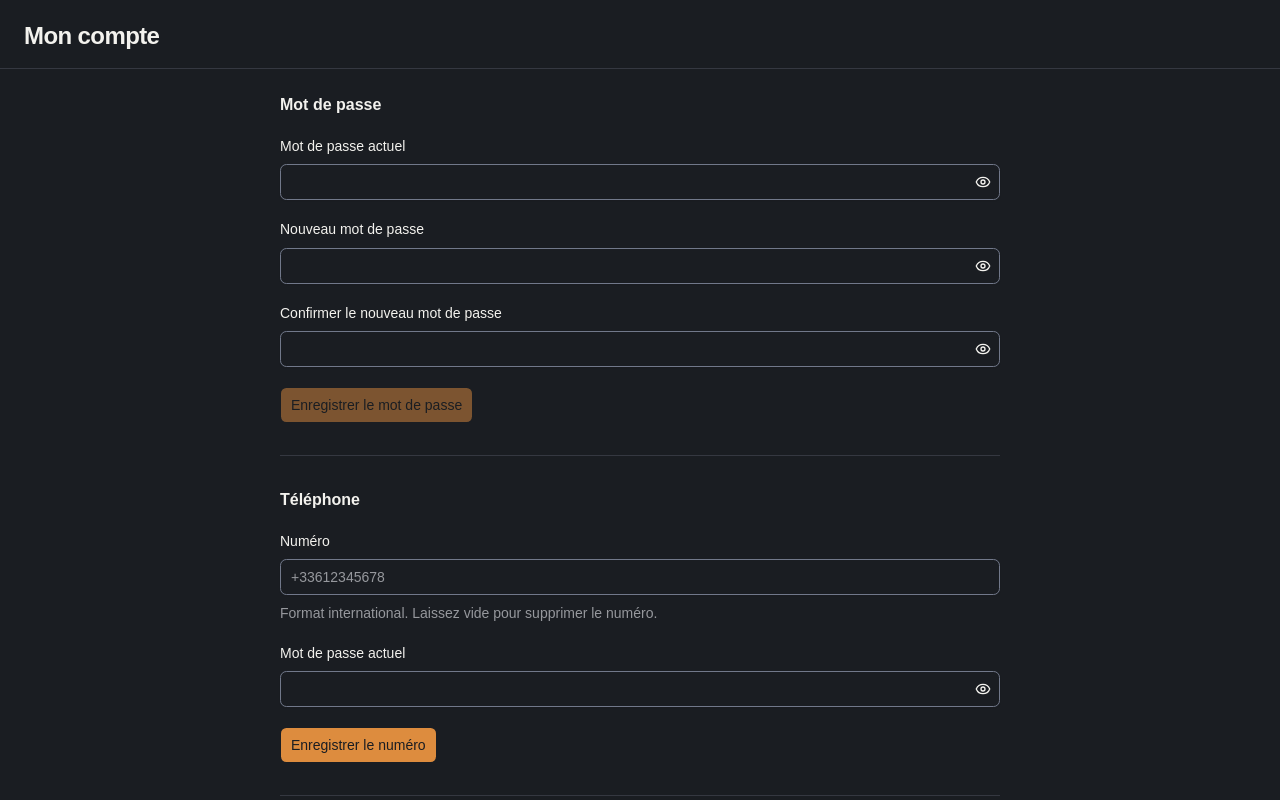
Test: Account (KAN-152, FR9, FR10) › rejects an obviously malformed phone number inline, client-side, before submission (FR13)
Expected: the element with test id "account-phone-section" is shown, [280, 488, 1000, 763]
Step 1. Type "not-a-phone" into the field with test id "account-phone-number" → [640, 577], box [280, 559, 1000, 595]
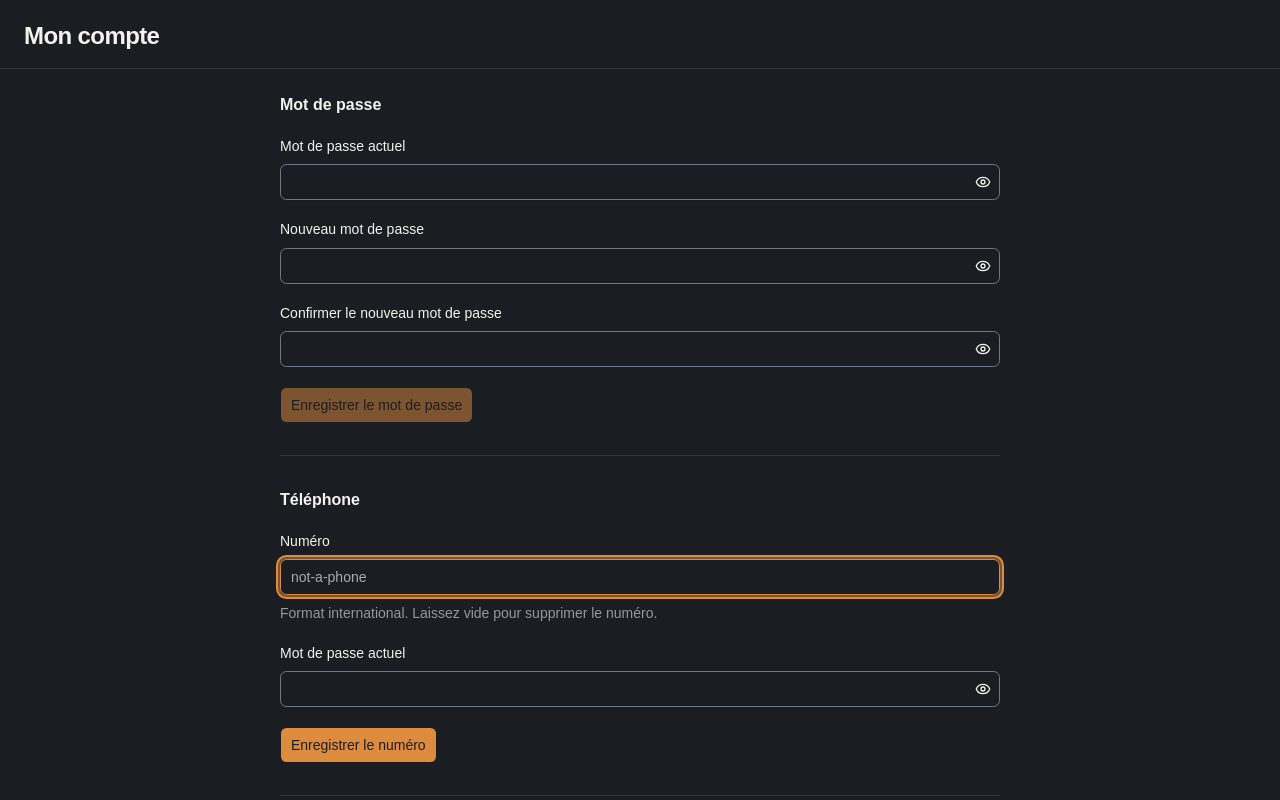
Step 2. Type "pw" into the password field with test id "account-phone-current-password" → [626, 689], box [281, 671, 971, 707]
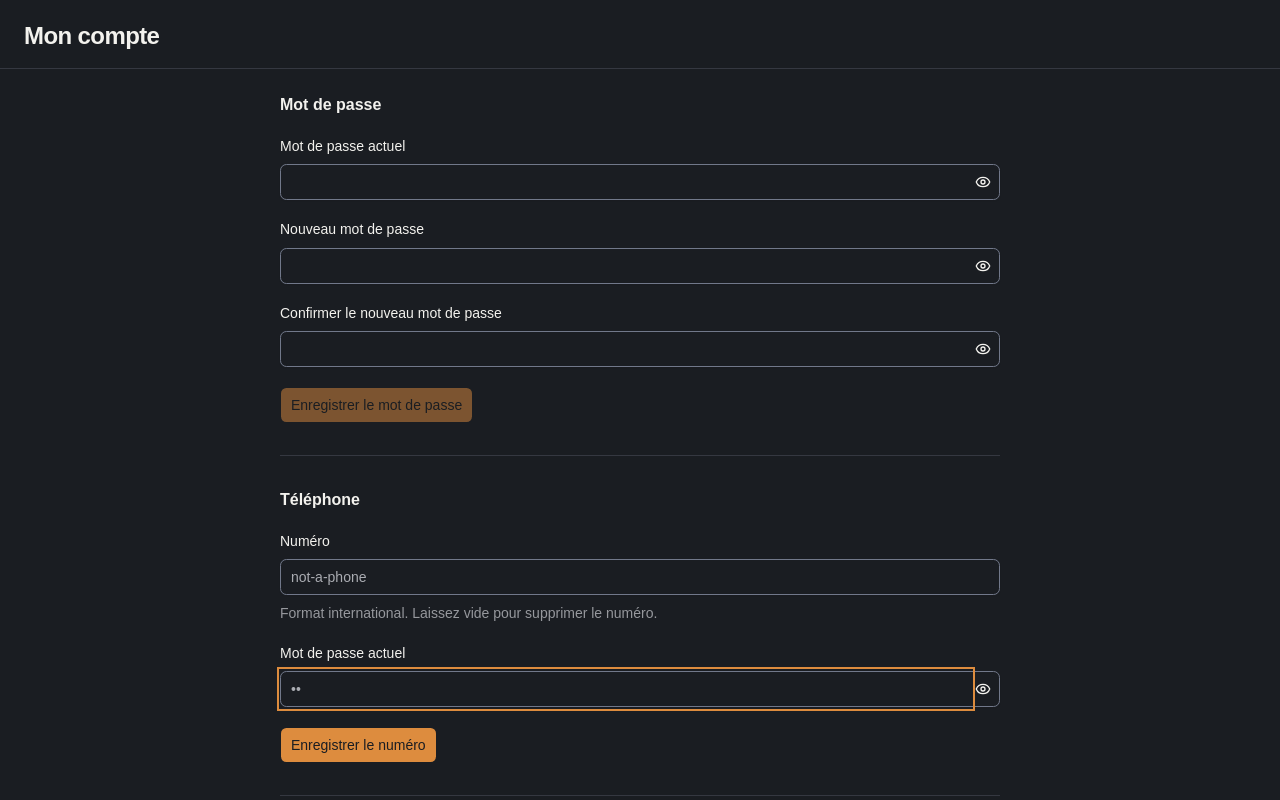
Step 3. Click the button with test id "account-phone-submit" → [358, 745], box [280, 727, 437, 763]
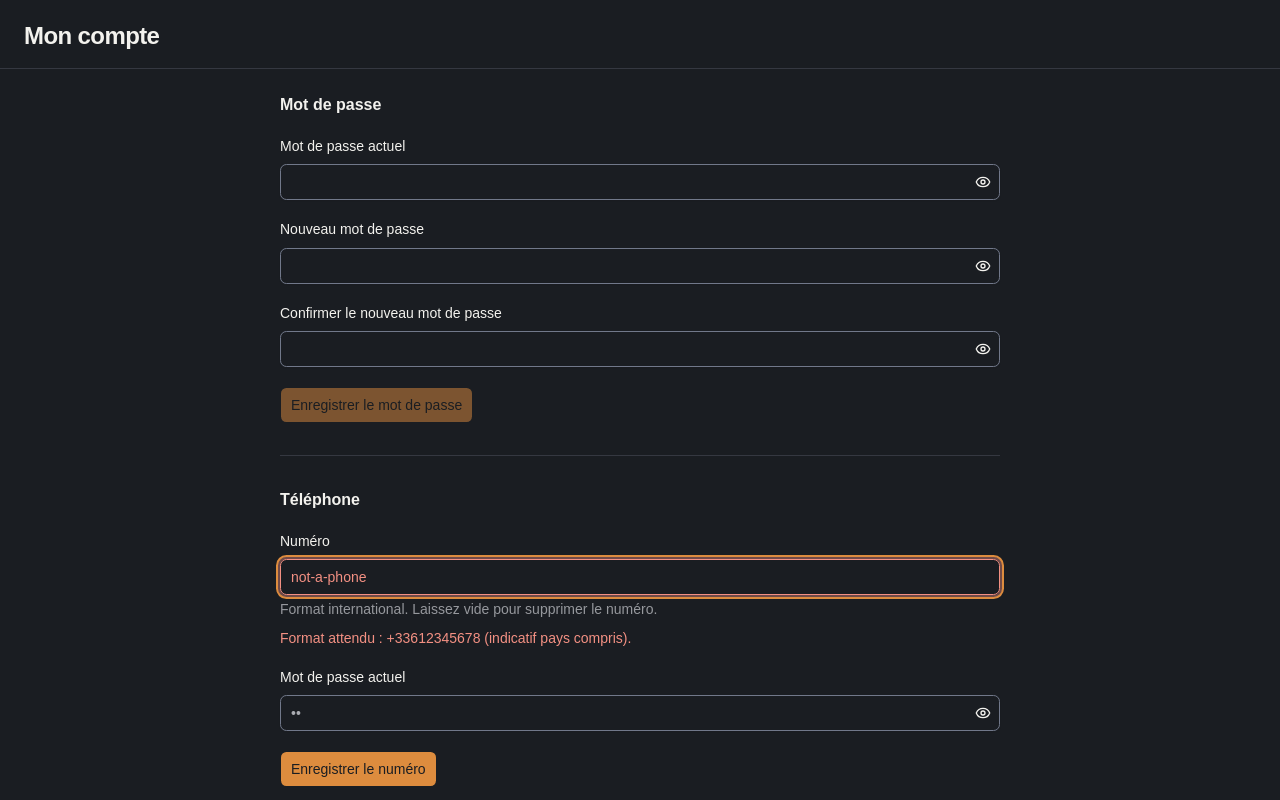
Expected: the message with test id "account-phone-number-error" reads "Format attendu : +33612345678 (indicatif pays compris).", [280, 630, 631, 646]
